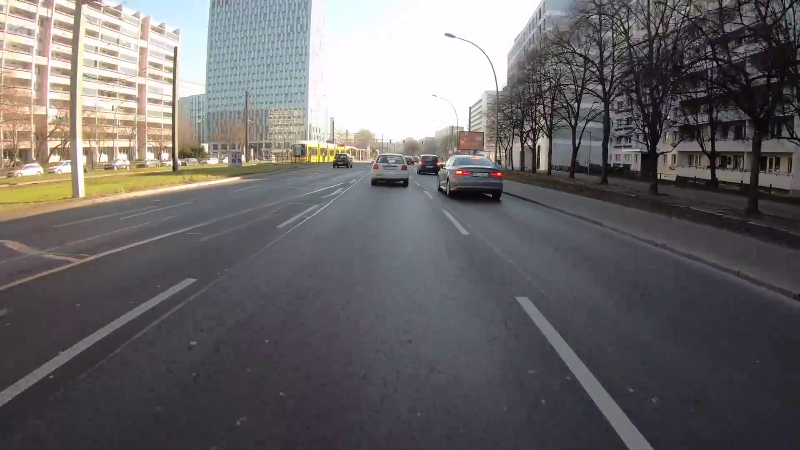Plate: (469, 169, 491, 179), (382, 163, 400, 172), (424, 164, 435, 168)
